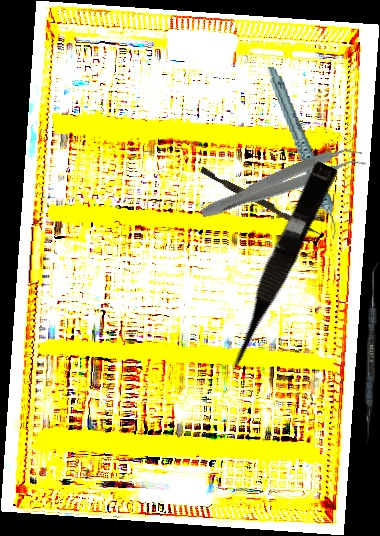Handpiece: (266, 61, 339, 245)
Micro Scissor: (216, 158, 339, 377)
Pusher: (198, 166, 323, 237)
Spatula Surgical: (364, 262, 378, 444)
Tissue Forceps: (197, 139, 368, 230)
